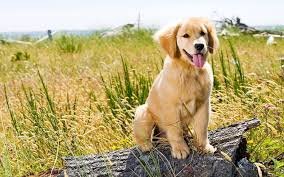dog_sitting: (130, 15, 219, 163)
